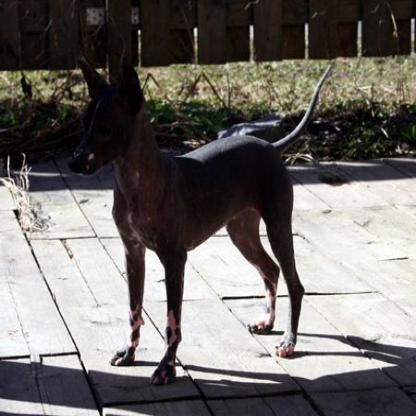Mexican_hairless: (64, 43, 331, 378)
